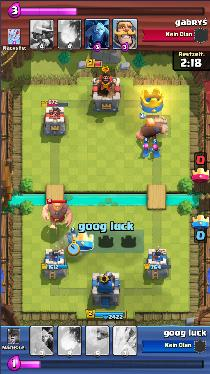EArcher: (152, 143, 161, 159), (140, 143, 150, 157)
EDoctor: (136, 118, 166, 142)
EFirespirit: (67, 230, 81, 248)
ESkelBarrel: (42, 200, 73, 229)
